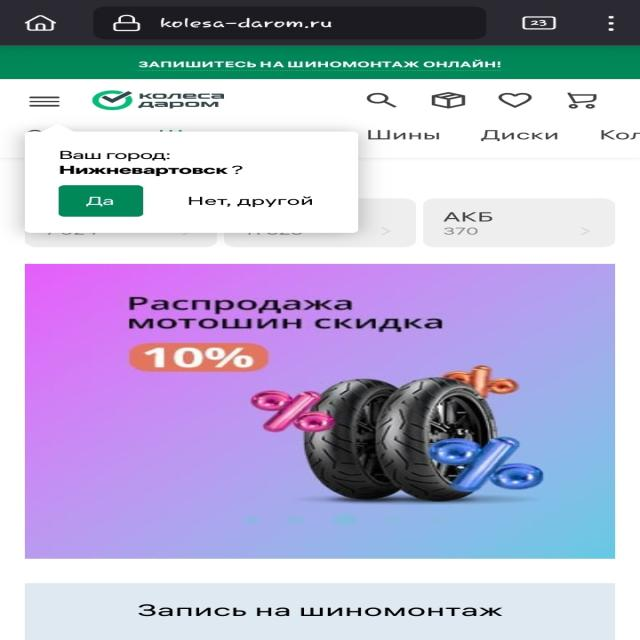button: (180, 184, 320, 216), (60, 183, 144, 216)
site: (23, 132, 363, 234)
